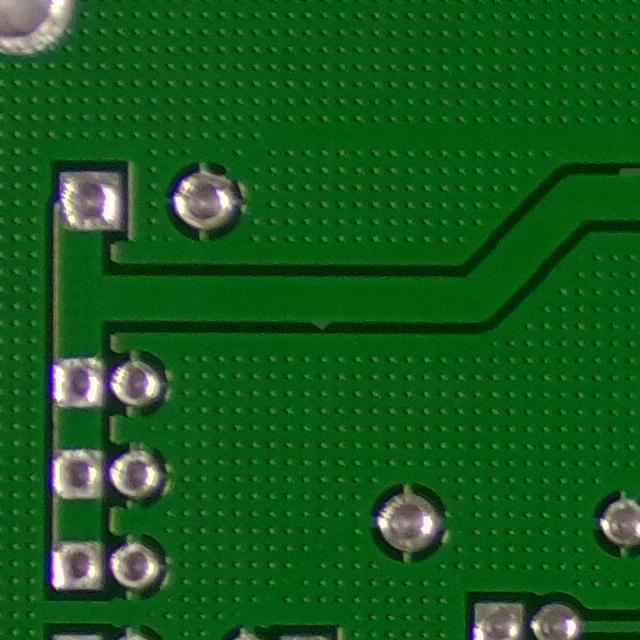spur: (284, 296, 356, 344)
